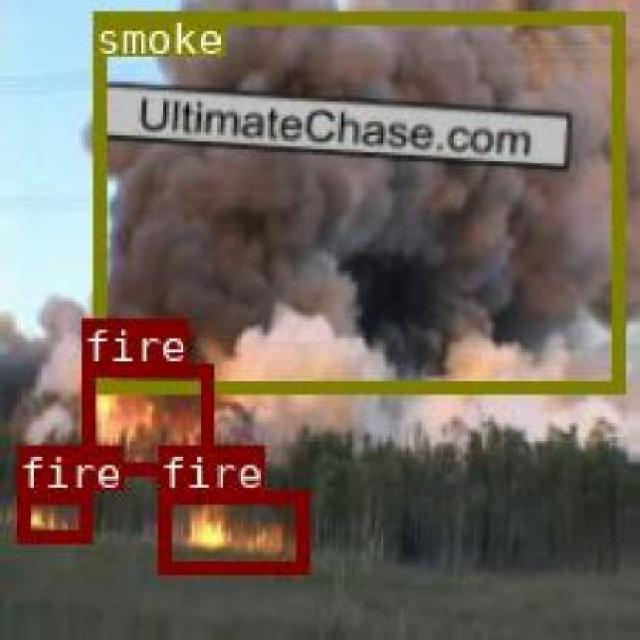Fire: (79, 362, 212, 472), (156, 488, 304, 570), (14, 490, 88, 541)
Smoke: (90, 11, 622, 392)
